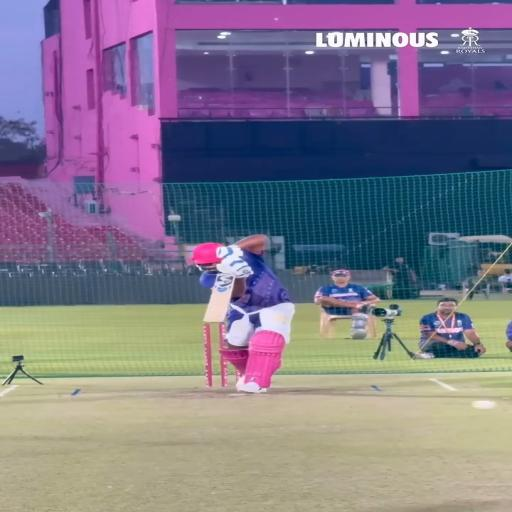Cricket bat: (203, 273, 234, 324)
